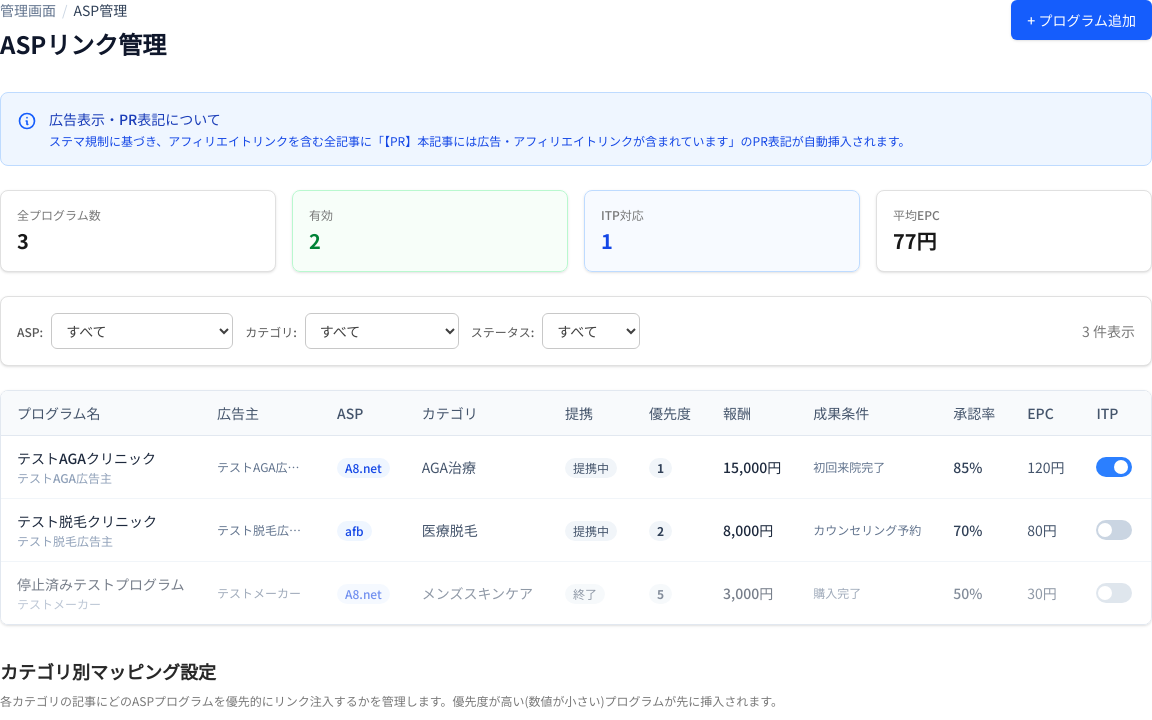
Test case: AspManagement › 「プログラム追加」ボタンで追加モーダルが開く
Expected: the text "テストAGAクリニック" is shown, [17,448,156,468]
Click the button "+ プログラム追加".
click(1082, 20)  # box [1011,0,1151,40]
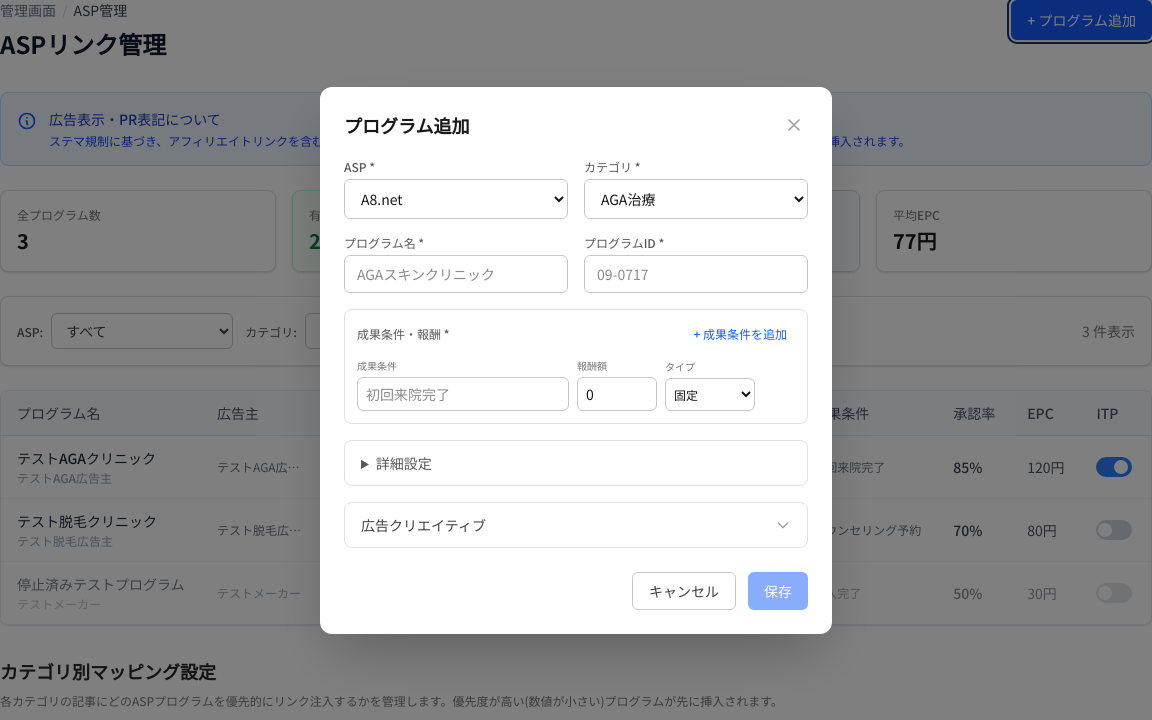
Now the heading "プログラム追加" is shown, box [344,110,470,138]
Now the button "保存" is shown, box [748,572,808,610]
Now the button "キャンセル" is shown, box [632,572,736,610]
